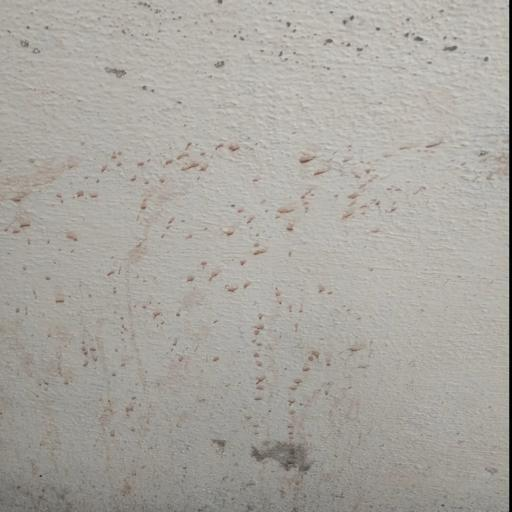stain: (4, 6, 512, 512)
